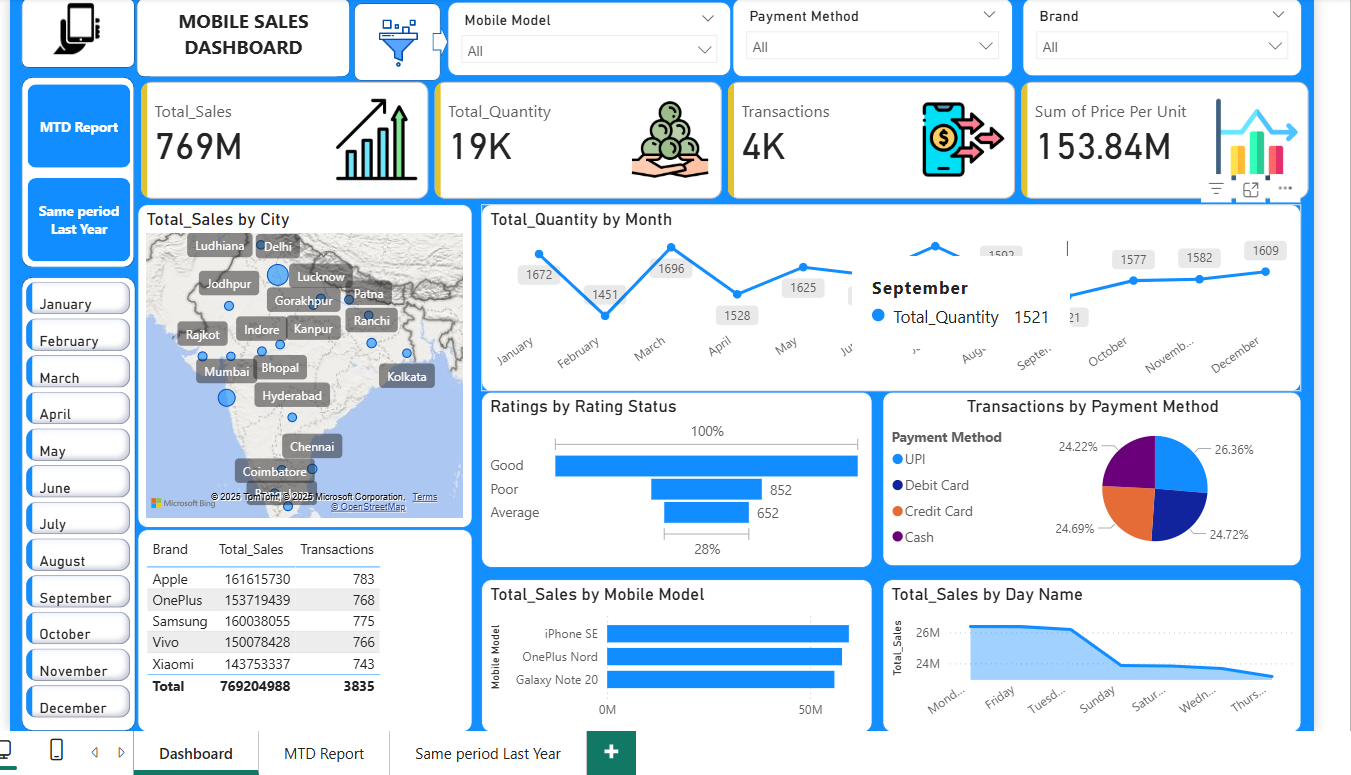

The page's visual inventory and layout, read from the dashboard file:
{"tool":"powerbi","page":{"name":"Dashboard","canvas":[1280,720],"ordinal":0},"visuals":[{"type":"shape","box":[11,0,111.7,68.7],"z":0},{"type":"image","box":[11,0,112.9,60.1],"z":1000},{"type":"shape","box":[11.2,77.5,111.2,187.5],"z":2000},{"type":"shape","box":[11.2,273.8,112.5,446.2],"z":3000},{"type":"advancedSlicerVisual","fields":{"Values":["Custom_Calender.Date.Variation.Date Hierarchy.Month"]},"box":[11.2,273.8,112.5,446.2],"z":4000},{"type":"cardVisual","fields":{"Data":["Sales_Data.Total_Sales","Sales_Data.Total_Quantity","Sales_Data.Transactions","Sum(Sales_Data.Price Per Unit)"]},"box":[123.8,77.5,1156.2,125],"z":5000},{"type":"slicer","fields":{"Values":["Sales_Data.Mobile Model"]},"box":[430,4.3,278.6,72.9],"z":6000},{"type":"slicer","fields":{"Values":["Sales_Data.Payment Method"]},"box":[708.8,0,275,77.5],"z":7000},{"type":"slicer","fields":{"Values":["Sales_Data.Brand"]},"box":[994.3,0,274.3,77.1],"z":8000},{"type":"shape","box":[337.8,4.4,85.6,76.7],"z":9000},{"type":"image","box":[346.7,15.6,67.8,56.7],"z":10000},{"type":"shape","box":[414.4,25.6,15.6,34.4],"z":11000},{"type":"shape","box":[124.4,0,210,77.8],"z":12000},{"type":"textbox","box":[137.8,4.4,183.3,72.2],"z":13000},{"type":"map","fields":{"Category":["Sales_Data.City"],"Size":["Sales_Data.Total_Sales"]},"box":[125,202.5,328.8,317.5],"z":14000},{"type":"lineChart","fields":{"Category":["Custom_Calender.Date.Variation.Date Hierarchy.Month"],"Y":["Sales_Data.Total_Quantity"]},"box":[462.5,202.5,805,183.8],"z":15000},{"type":"funnel","title":"Ratings by Rating Status","fields":{"Y":["CountNonNull(Sales_Data.Customer Age)"],"Category":["Sales_Data.Rating Status"]},"box":[462.5,386.2,383.8,172.5],"z":16000},{"type":"pieChart","fields":{"Category":["Sales_Data.Payment Method"],"Y":["Sales_Data.Transactions"]},"box":[856.2,386.2,411.2,171.2],"z":17000},{"type":"clusteredBarChart","fields":{"Y":["Sales_Data.Total_Sales"],"Category":["Sales_Data.Mobile Model"]},"box":[462.5,570,383.8,150],"z":18000},{"type":"areaChart","fields":{"Y":["Sales_Data.Total_Sales"],"Category":["Custom_Calender.Day Name"]},"box":[856.2,570,411.2,150],"z":19000},{"type":"tableEx","fields":{"Values":["Sales_Data.Brand","Sales_Data.Total_Sales","Sales_Data.Transactions"]},"box":[125,521,329,199],"z":20000},{"type":"pageNavigator","box":[17.2,84.7,101.8,175.5],"z":20001}]}

Visuals, with their boxes on the page's 1280x720 design canvas (x1, y1, x2, y2). These are canvas units, not pixel positions in the 1351x775 screenshot, which may show the page scaled, cropped or inside an application window:
shape: left=11, top=0, right=123, bottom=69
image: left=11, top=0, right=124, bottom=60
shape: left=11, top=78, right=122, bottom=265
shape: left=11, top=274, right=124, bottom=720
advancedSlicerVisual - Custom_Calender.Date.Variation.Date Hierarchy.Month: left=11, top=274, right=124, bottom=720
cardVisual - Sales_Data.Total_Sales x Sales_Data.Total_Quantity: left=124, top=78, right=1280, bottom=202
slicer - Sales_Data.Mobile Model: left=430, top=4, right=709, bottom=77
slicer - Sales_Data.Payment Method: left=709, top=0, right=984, bottom=78
slicer - Sales_Data.Brand: left=994, top=0, right=1269, bottom=77
shape: left=338, top=4, right=423, bottom=81
image: left=347, top=16, right=414, bottom=72
shape: left=414, top=26, right=430, bottom=60
shape: left=124, top=0, right=334, bottom=78
textbox: left=138, top=4, right=321, bottom=77
map - Sales_Data.City x Sales_Data.Total_Sales: left=125, top=202, right=454, bottom=520
lineChart - Custom_Calender.Date.Variation.Date Hierarchy.Month x Sales_Data.Total_Quantity: left=462, top=202, right=1268, bottom=386
"Ratings by Rating Status" funnel: left=462, top=386, right=846, bottom=559
pieChart - Sales_Data.Payment Method x Sales_Data.Transactions: left=856, top=386, right=1267, bottom=557
clusteredBarChart - Sales_Data.Total_Sales x Sales_Data.Mobile Model: left=462, top=570, right=846, bottom=720
areaChart - Sales_Data.Total_Sales x Custom_Calender.Day Name: left=856, top=570, right=1267, bottom=720
tableEx - Sales_Data.Brand x Sales_Data.Total_Sales: left=125, top=521, right=454, bottom=720
pageNavigator: left=17, top=85, right=119, bottom=260
